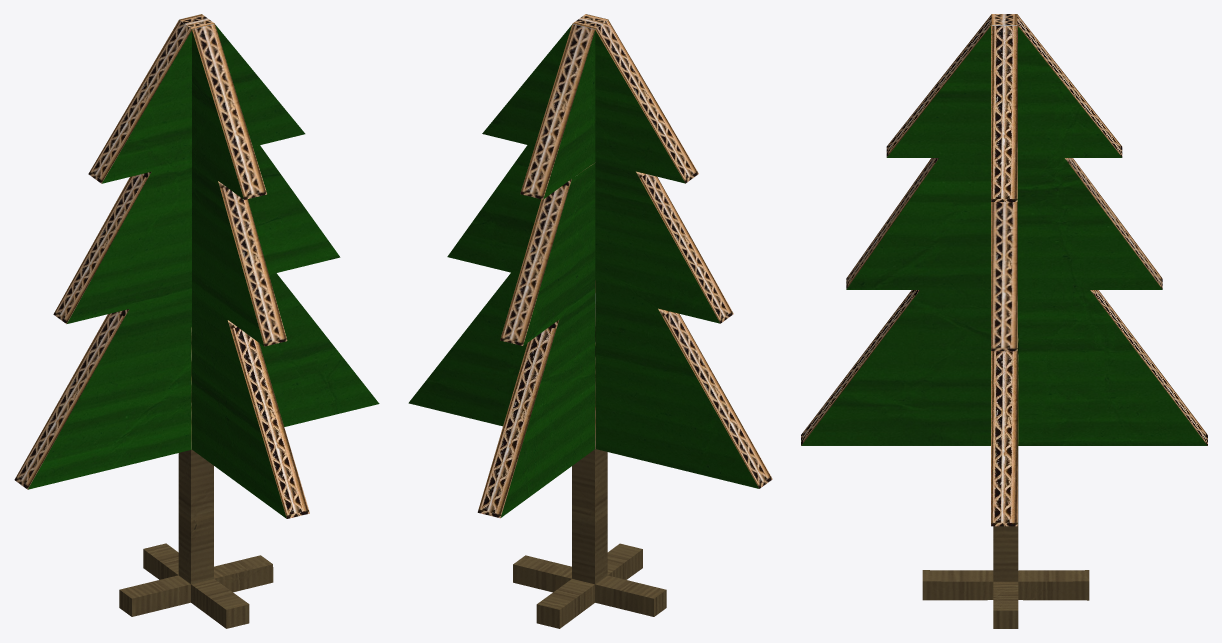
The model's file is tree.fbx.
3 views of the same model, side by side, from view 1: azimuth 30°, elevation 25°; view 2: azimuth 150°, elevation 25°; view 3: azimuth 270°, elevation 25° (orthographic).
Parts seen in each view (by area): view 1: tree_4.019; view 2: tree_4.019; view 3: tree_4.019.
Boxes of the visible parts, bbox=[...] form: tree_4.019: bbox=[14, 14, 379, 628]; tree_4.019: bbox=[408, 14, 772, 628]; tree_4.019: bbox=[801, 14, 1207, 628].
Size of the model in its own units: 7324 by 11428 by 7324.
4 materials, 4 textured.
